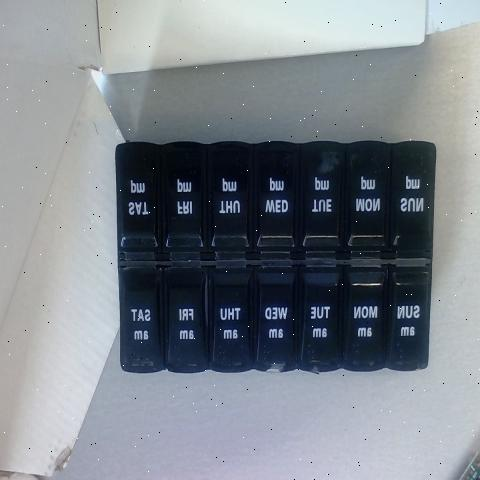FRI-am: (162, 253, 206, 368)
FRI-pm: (164, 145, 206, 254)
MON-am: (343, 251, 387, 367)
MON-pm: (348, 140, 390, 253)
SAT-am: (120, 276, 164, 368)
SAT-pm: (119, 148, 159, 255)
SUN-am: (387, 264, 426, 370)
SUN-pm: (393, 139, 435, 253)
THU-am: (204, 253, 248, 366)
THU-pm: (209, 142, 251, 252)
TUE-am: (299, 143, 343, 258)
TUE-pm: (299, 258, 343, 367)
WED-am: (253, 256, 299, 368)
WED-pm: (256, 144, 296, 250)
